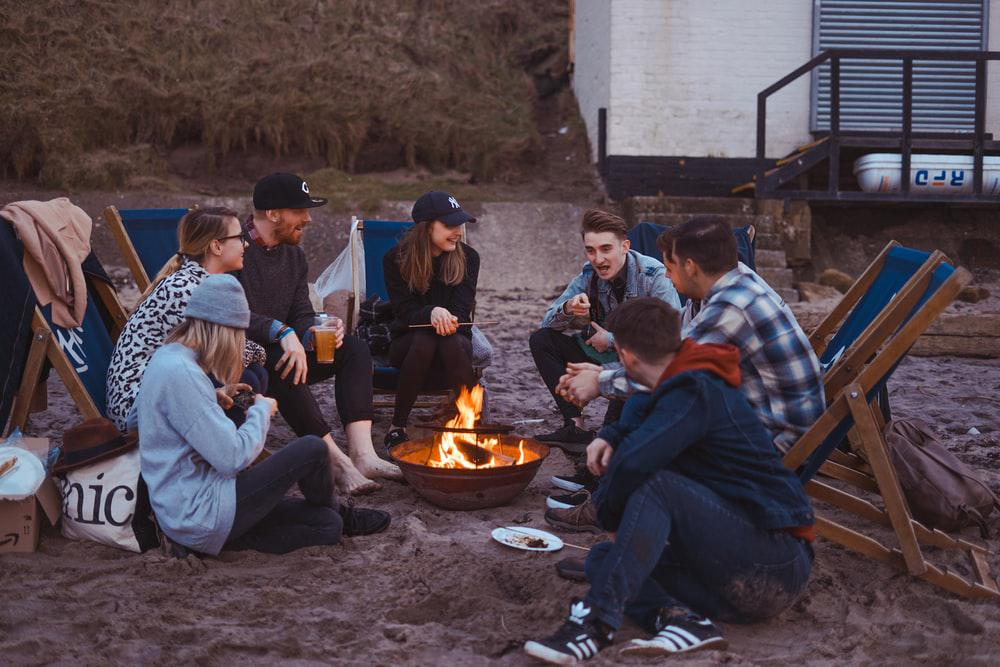without_mask: (249, 167, 330, 248), (173, 198, 253, 277), (409, 188, 484, 258), (572, 207, 640, 283)
